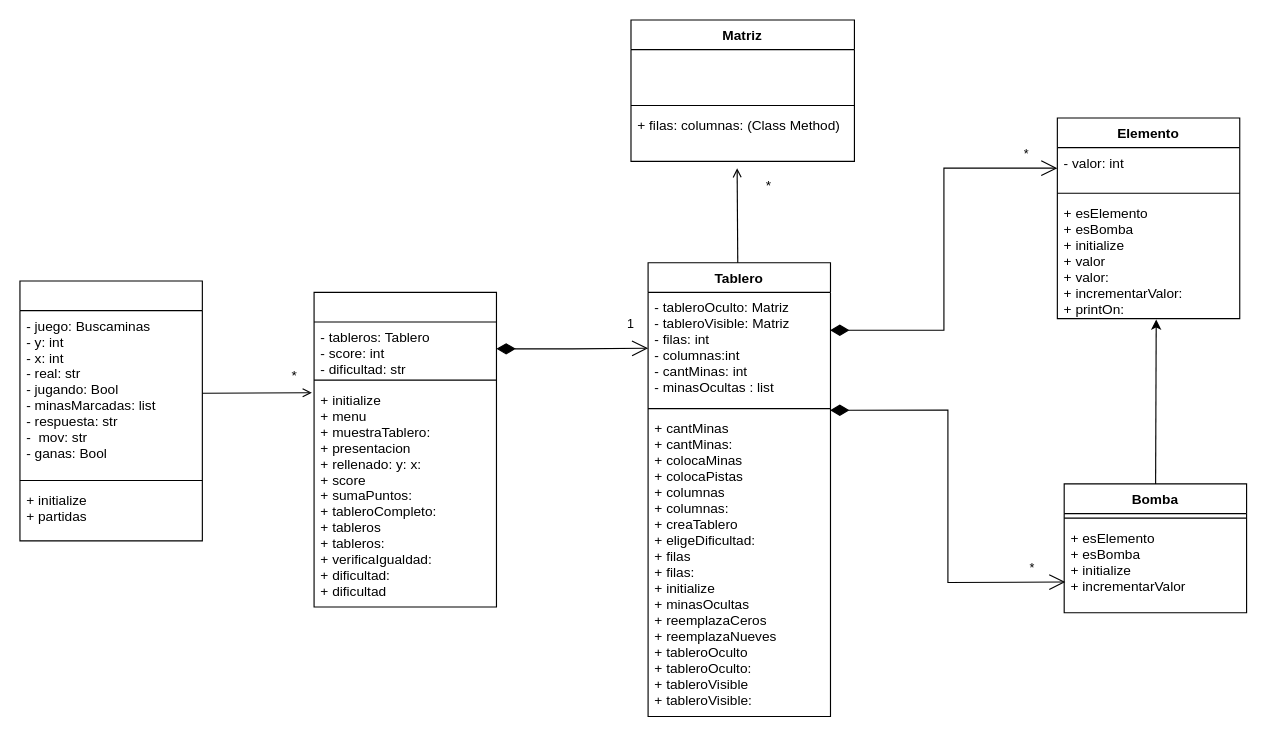
This 1267x740 diagram has some shape labels left out. Here are the shapes that lost their labels. From the top down, the box of each, then its label:
(19, 280, 202, 541): Interfaz
(313, 291, 496, 607): Buscaminas
